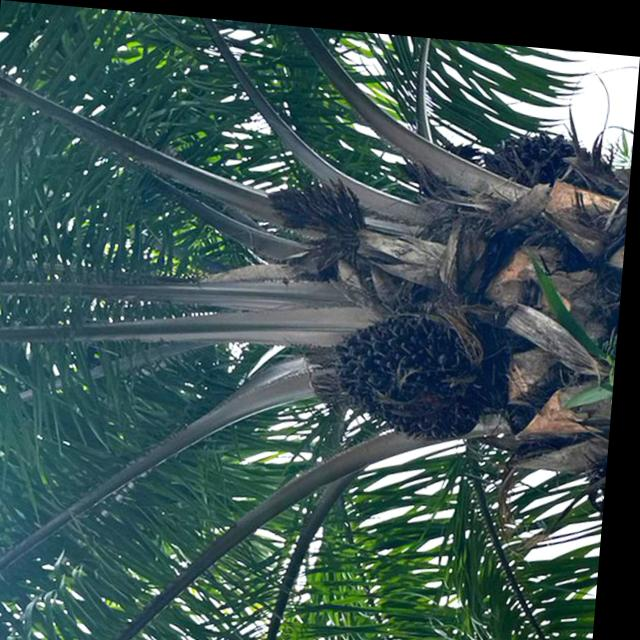almost: (327, 289, 505, 440)
